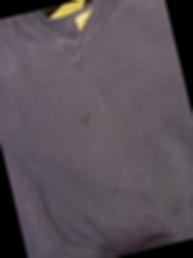oil: (74, 109, 96, 130)
